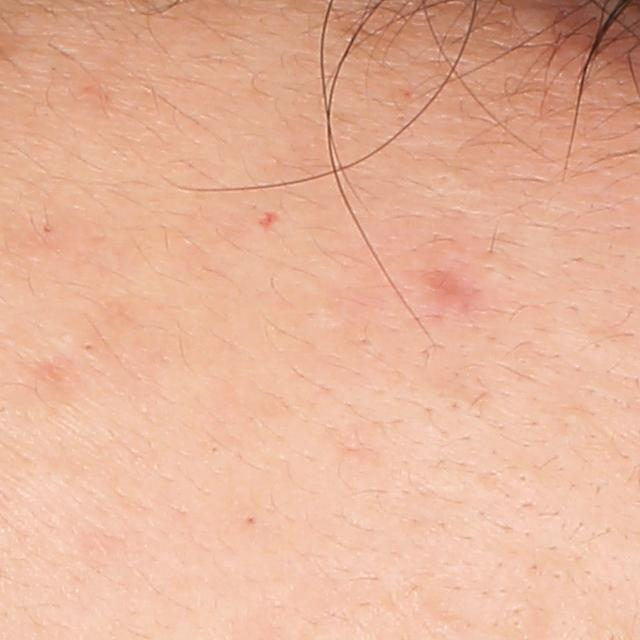comedo: (240, 507, 261, 533)
